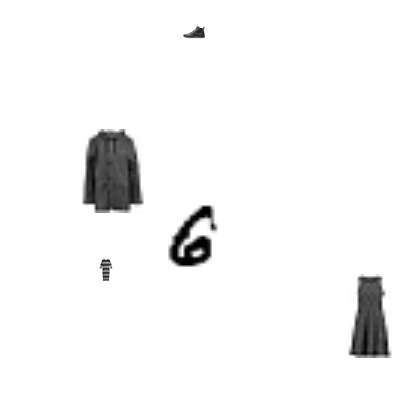6: (148, 197, 232, 281)
Coat: (71, 129, 155, 213)
Dress: (328, 274, 412, 358), (95, 259, 117, 281)
Sneaker: (183, 21, 205, 43)
